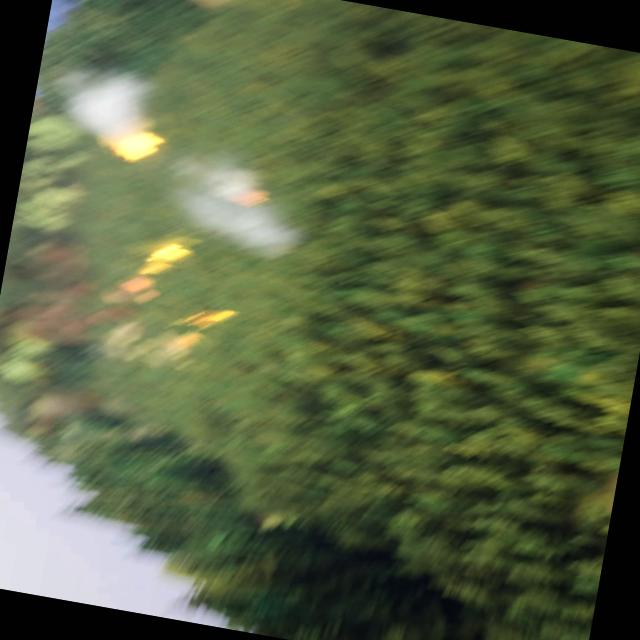fire: (121, 232, 192, 300), (178, 300, 234, 350), (103, 123, 163, 166)
smoke: (168, 152, 322, 266), (52, 57, 161, 144)
